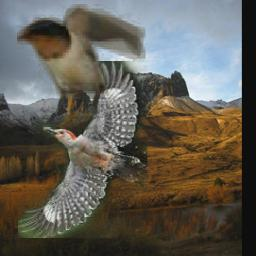Swallow: (17, 5, 145, 100)
Woodpecker: (19, 62, 148, 239)
